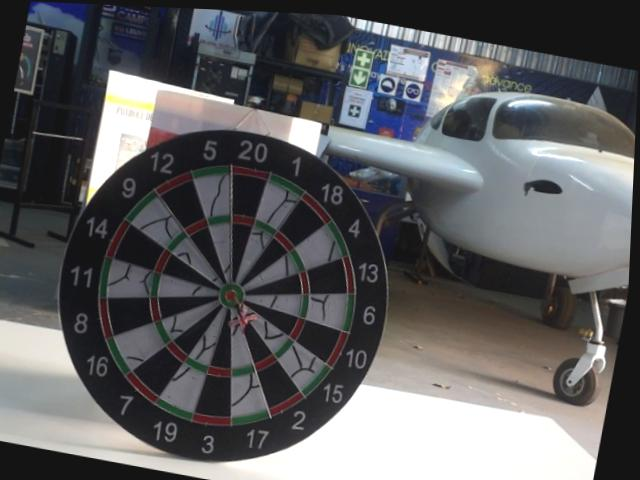bullseye: (224, 287, 244, 307)
